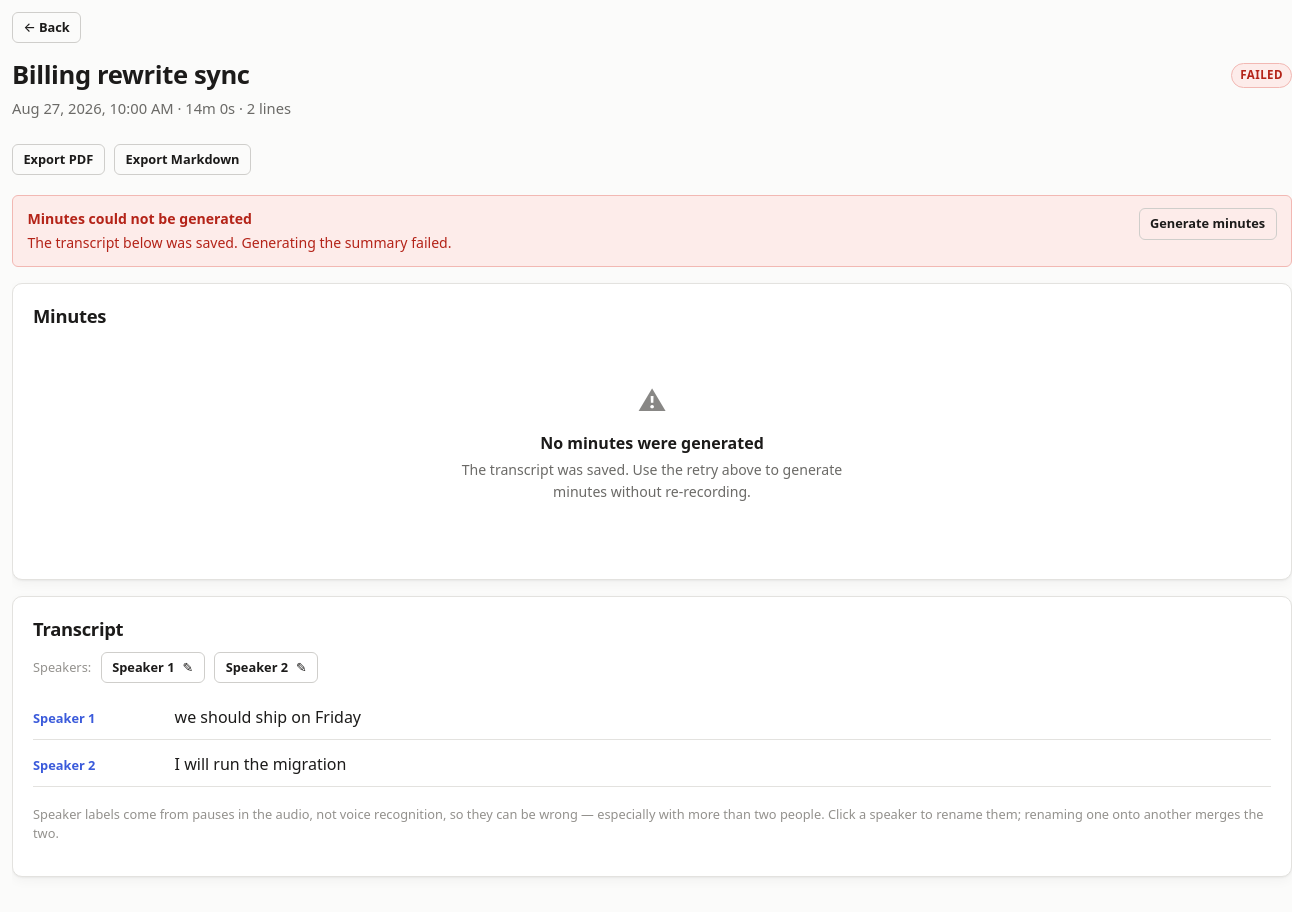
MinutesView — failed › regenerates and reloads on retry
Click the button "Generate minutes": (1208,224) [1138,208,1277,240]
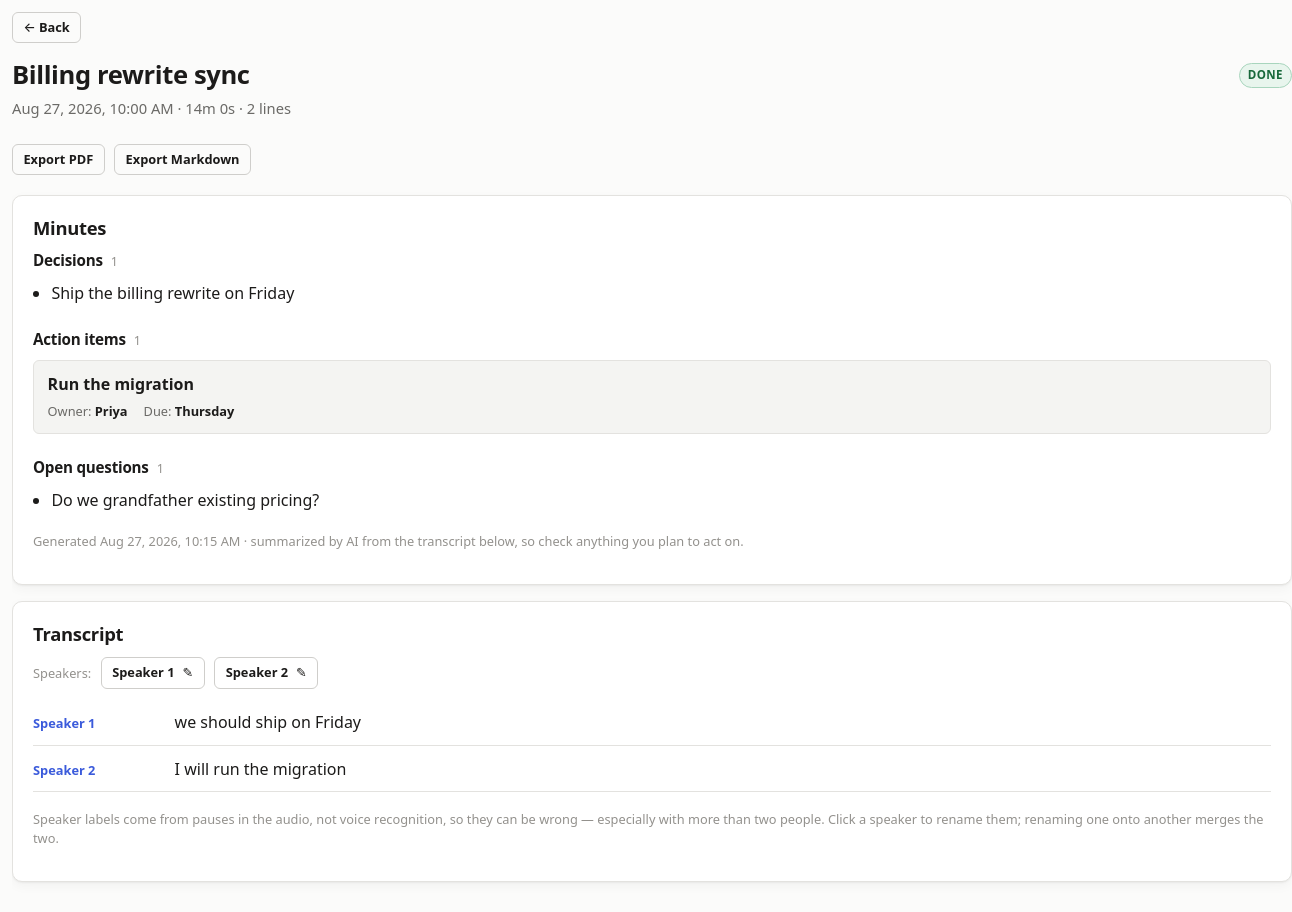
Check: the list item "Ship the billing rewrite on Friday" is shown, box [51,282,294,304]
